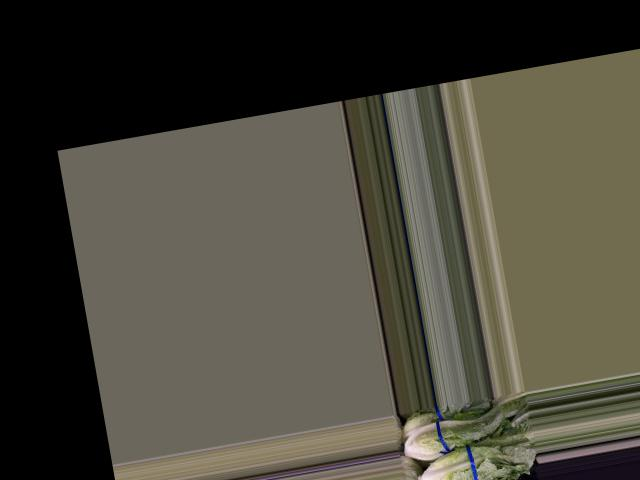lettuce: (397, 401, 511, 464)
